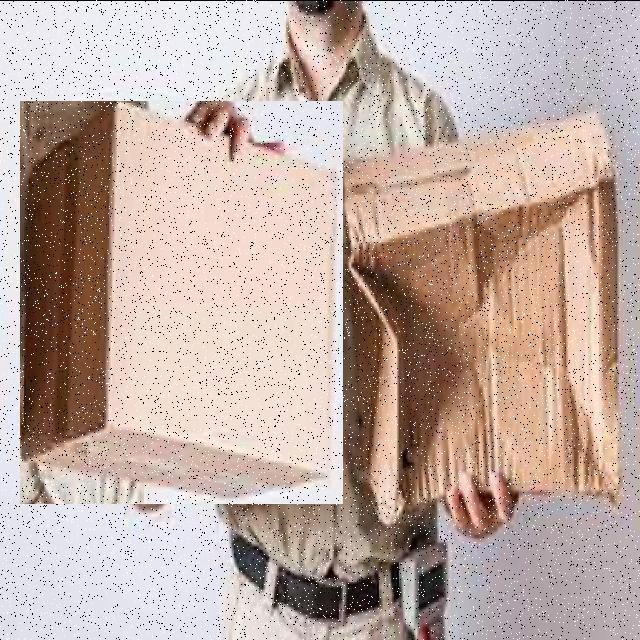defect: (342, 109, 626, 525)
normal: (20, 100, 343, 503)
